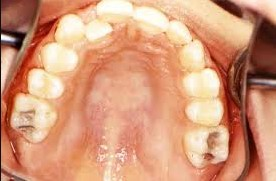UL1BC_healthy: (185, 71, 221, 97)
UL1M_decay: (191, 128, 232, 168)
UL2BC_healthy: (188, 95, 225, 125)
ULCI_healthy: (137, 8, 169, 35)
ULC_healthy: (183, 45, 208, 68)
ULLI_healthy: (170, 20, 192, 45)
UR1BC_healthy: (43, 41, 79, 72)
UR1M_decay: (12, 94, 58, 142)
UR2BC_healthy: (27, 68, 66, 100)
URCI_healthy: (100, 1, 133, 22)
URC_healthy: (56, 15, 86, 45)
URLI_healthy: (87, 18, 113, 43)
